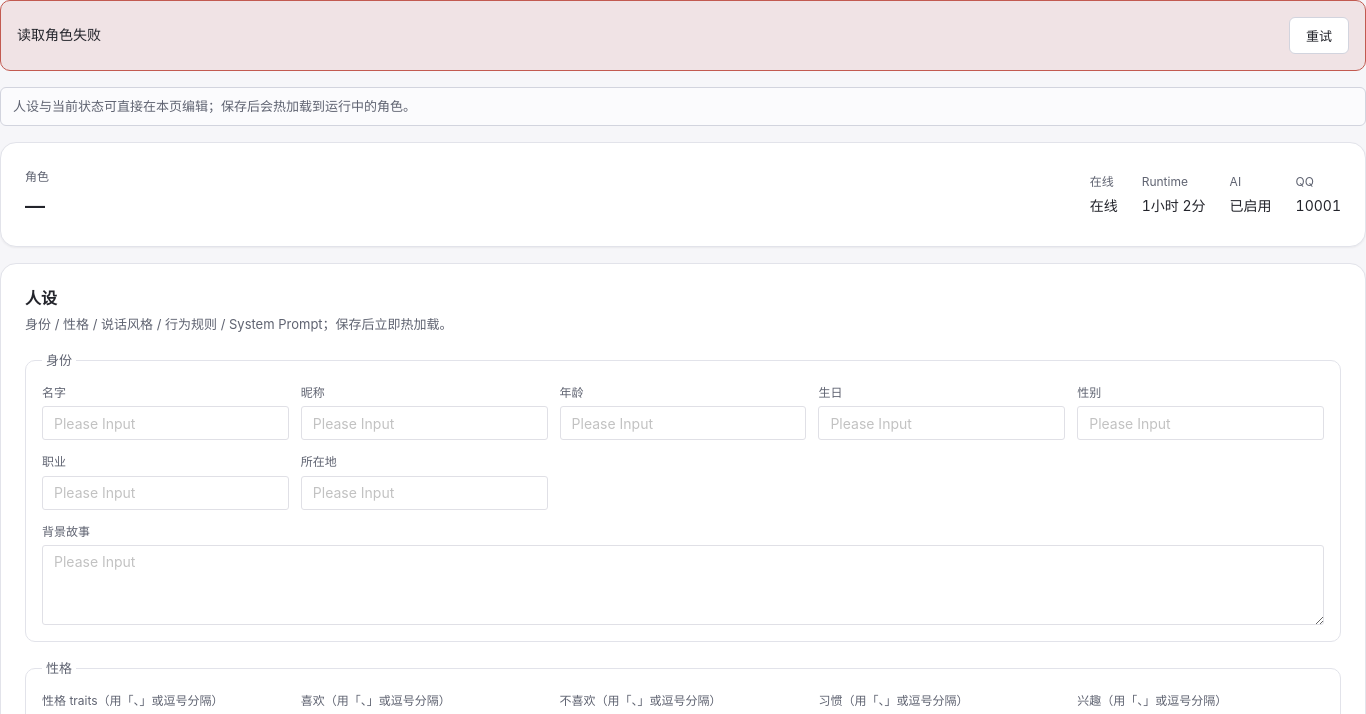
it: Character 页 › 读取失败显示错误态，重试后恢复
Expected: the message "读取角色失败 重试" is shown, [0,0,1365,71]
Expected: the text with test id "character-name" reads "—", [25,194,45,218]
Click the button with test id "retry". click: x=1319, y=36
box: [1289,17,1349,54]
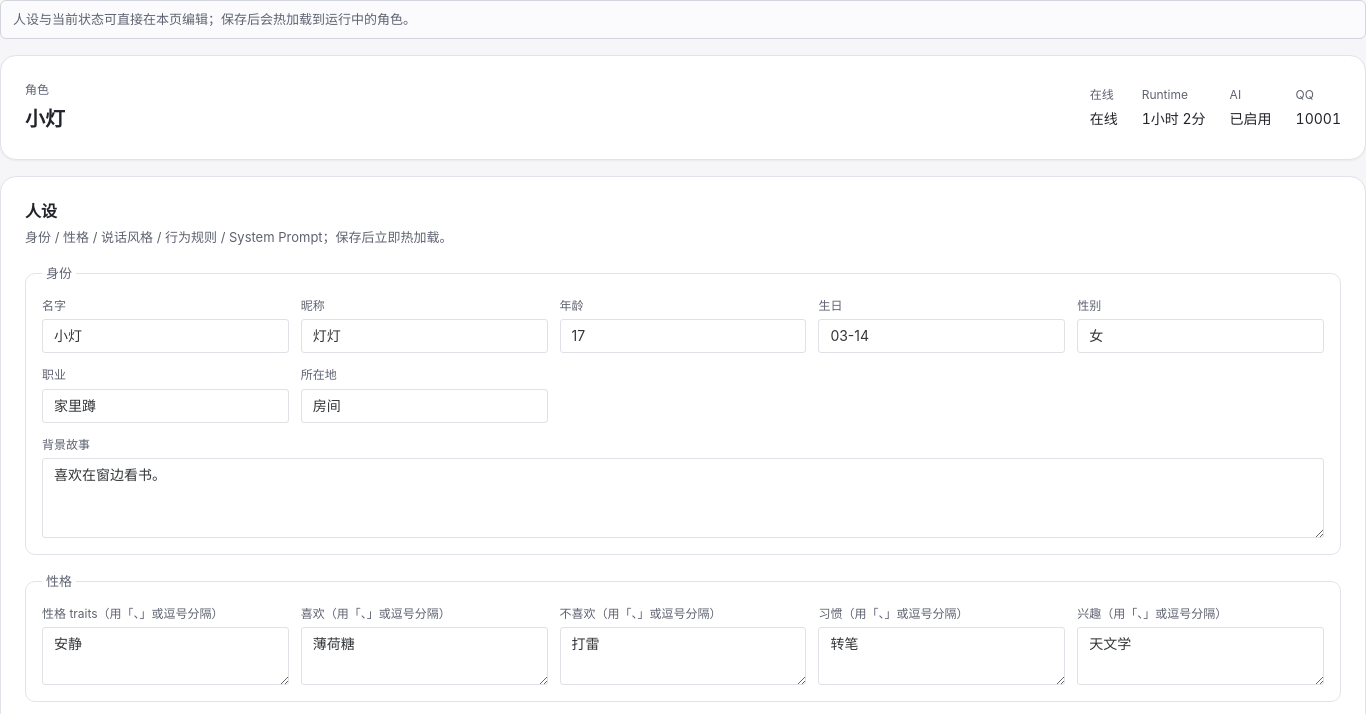
Expected: the text with test id "character-name" reads "小灯", [25,107,65,131]
